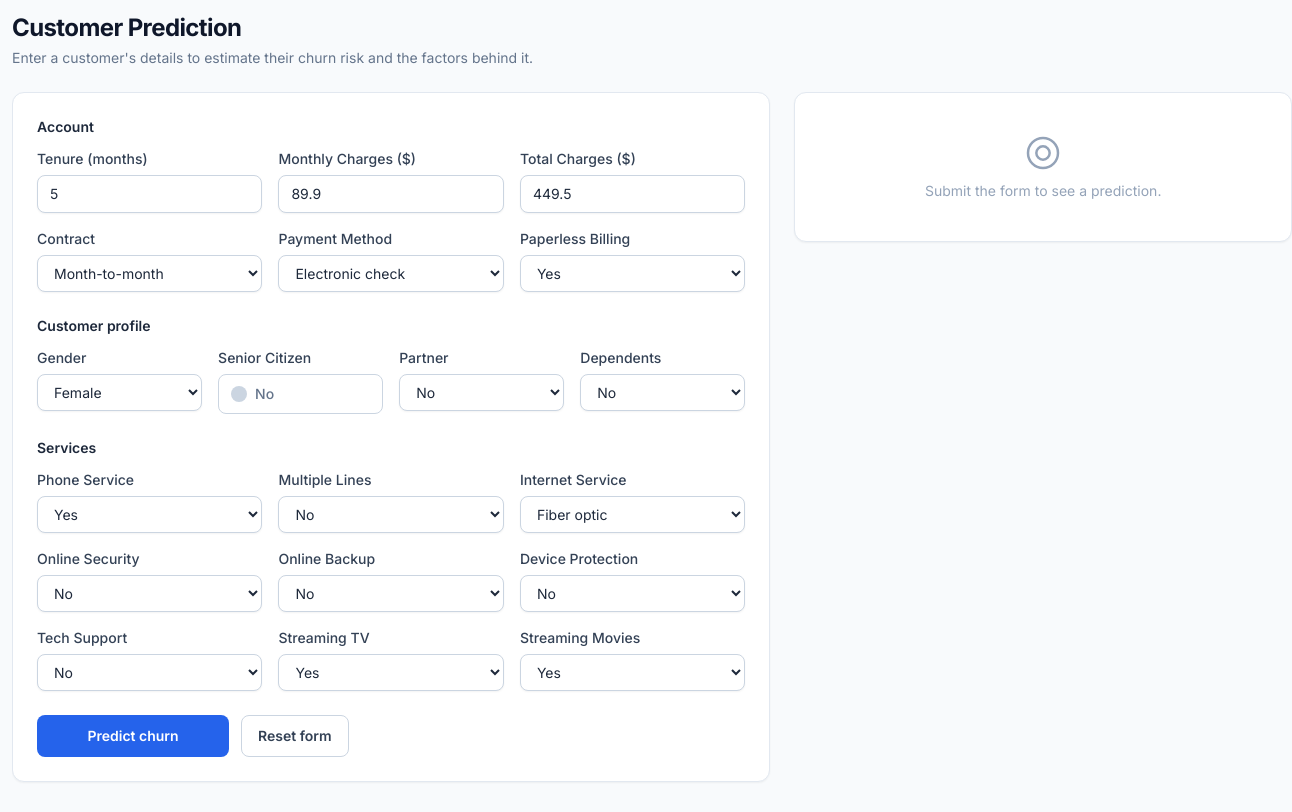
Test: Predict page flow › sends a prediction request and renders the result
This screenshot has width=1292, height=812.
Click the button "Predict churn".
click(133, 736)  # box 37,715 -> 229,757
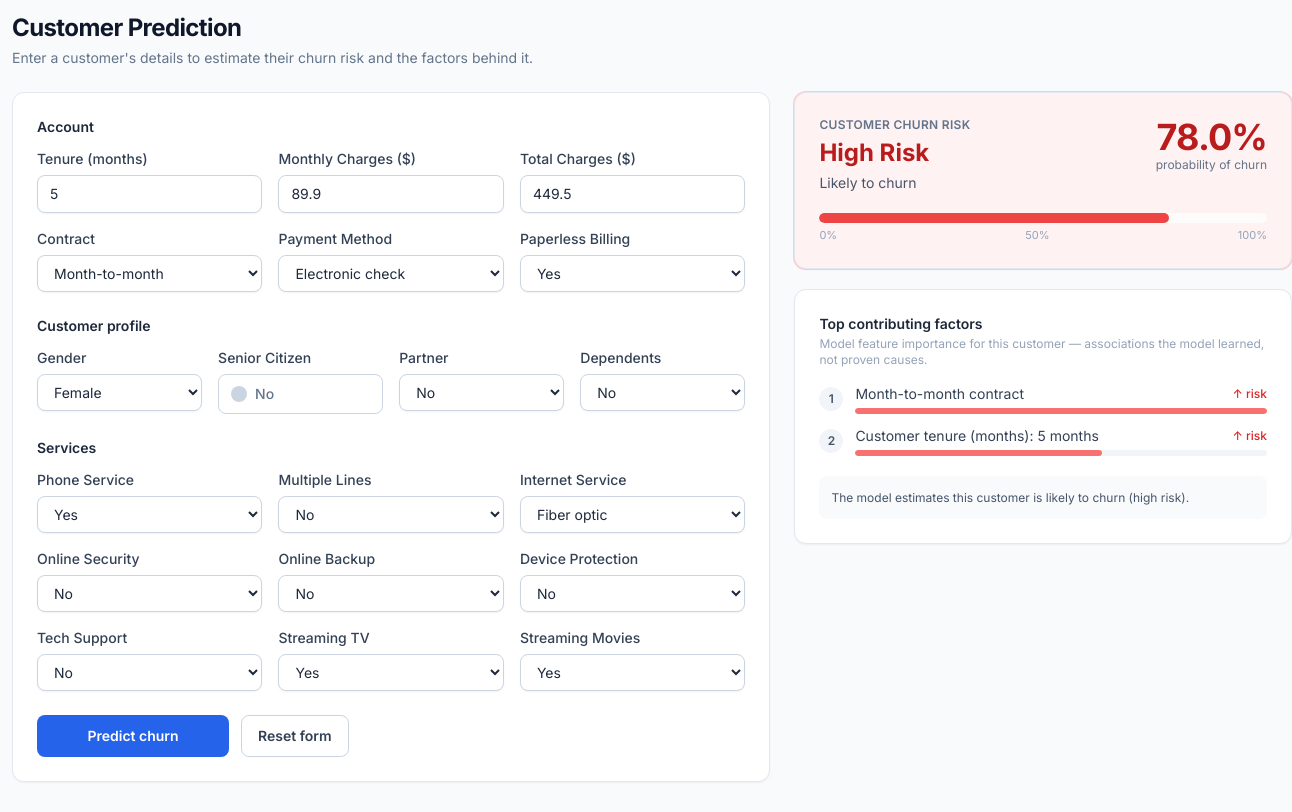
Check: the text "High Risk" is shown, box 819,138 -> 929,167
Check: the text "78.0%" is shown, box 1156,117 -> 1267,157
Check: the text "Month-to-month contract" is shown, box 855,384 -> 1024,404
